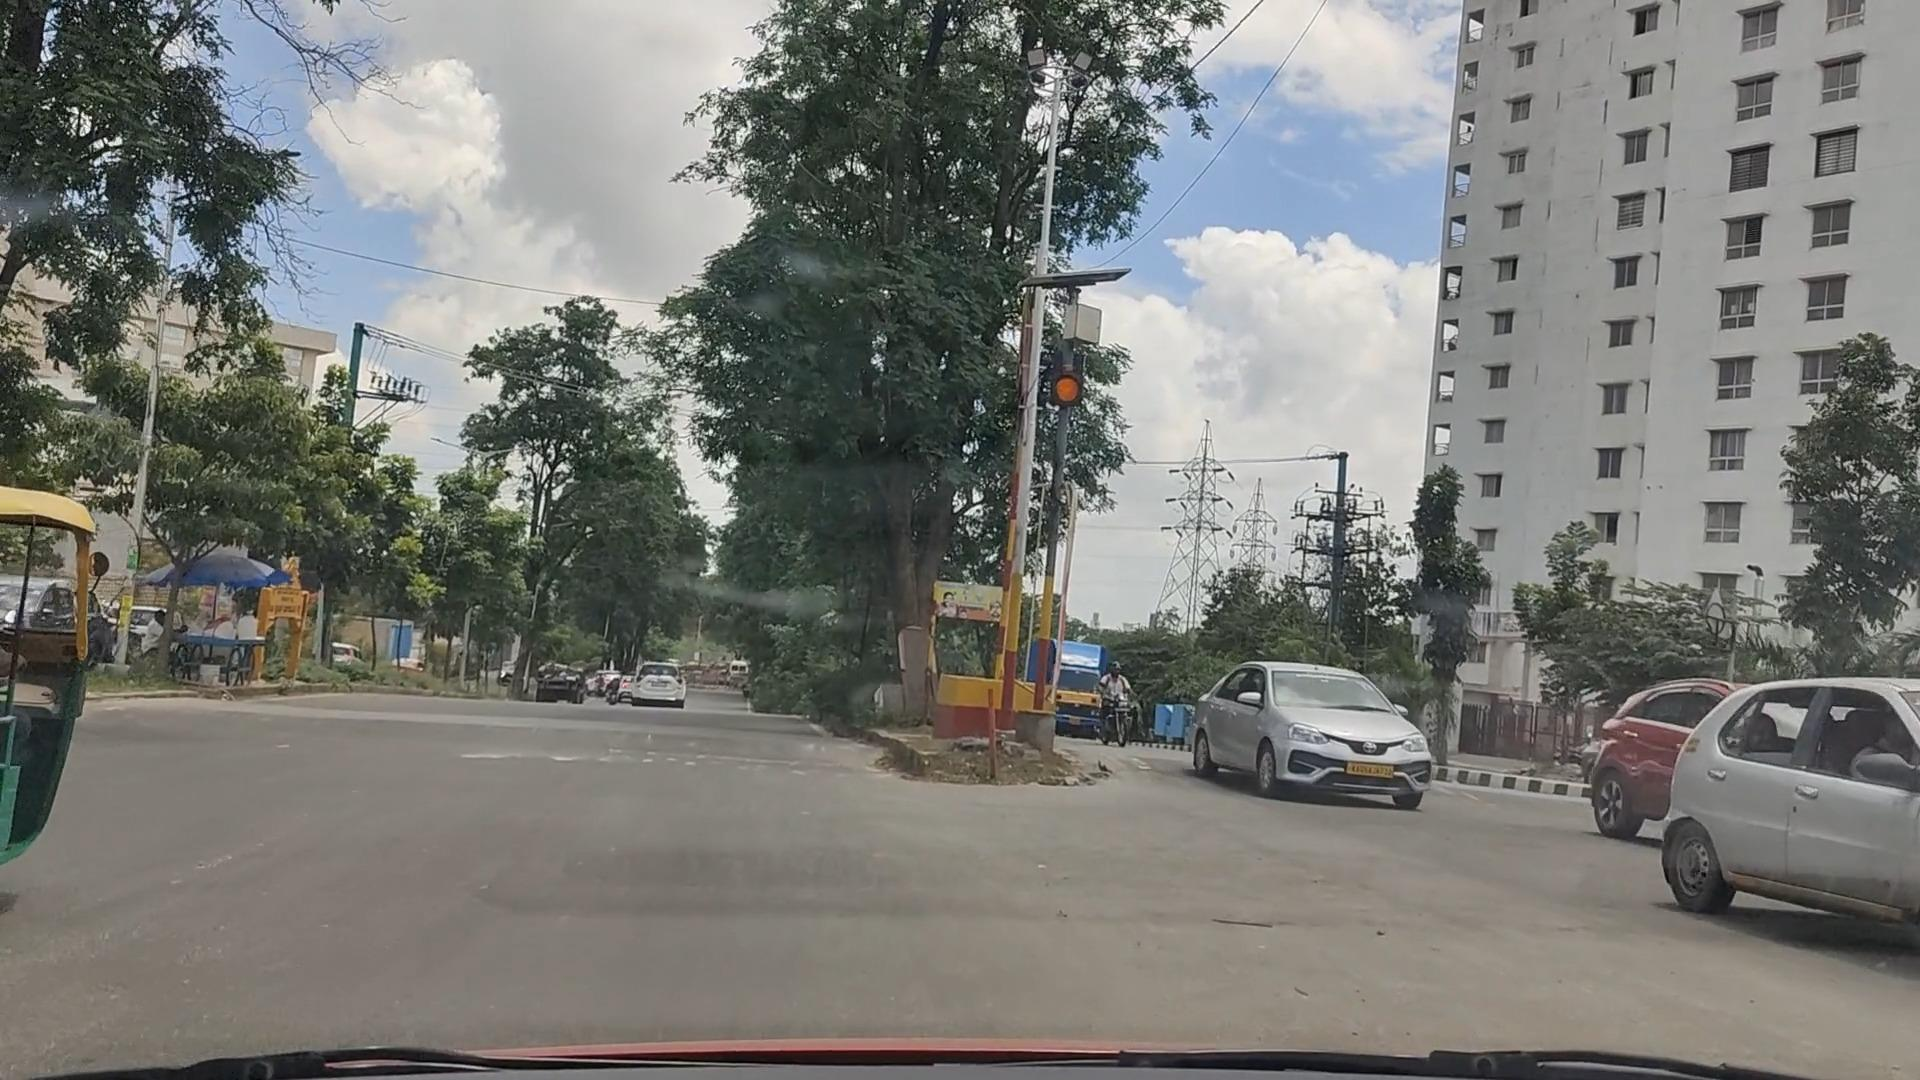LMV: (1203, 645, 1428, 804)
